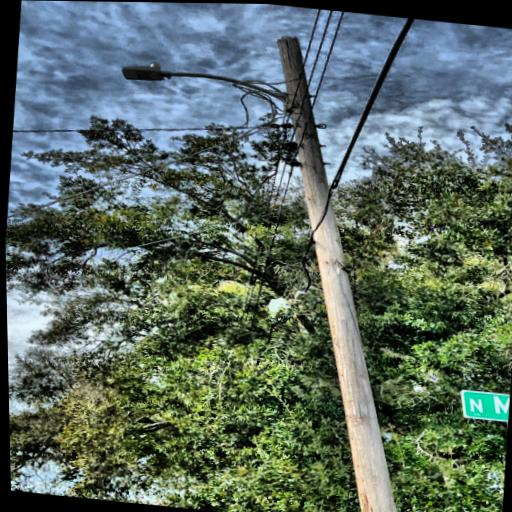pole: (227, 24, 508, 512)
street light: (114, 57, 299, 116)
